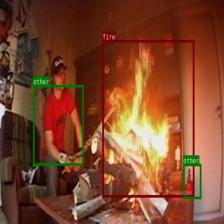fire: (102, 40, 194, 197)
